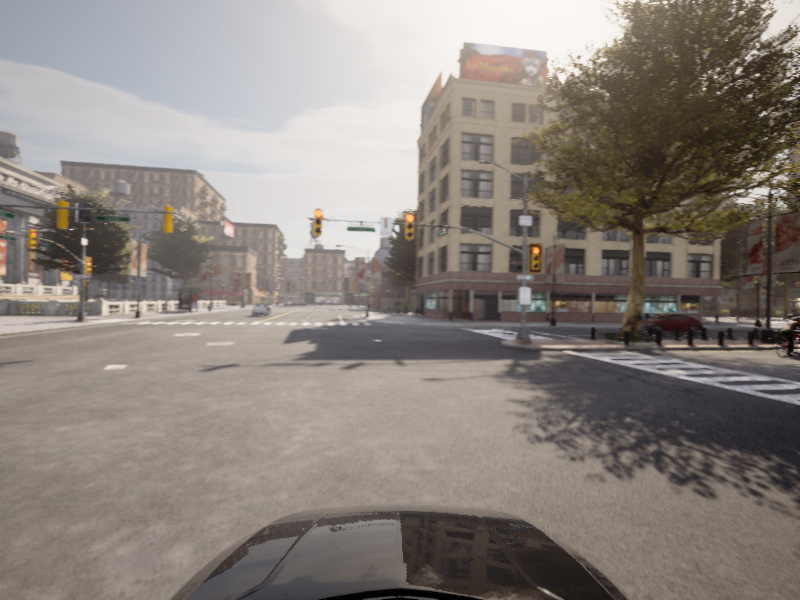vehicle: (628, 312, 707, 334), (768, 316, 799, 358), (784, 306, 799, 339), (249, 302, 272, 316)
